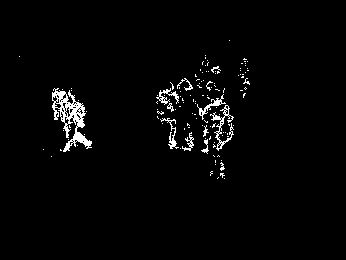person: (50, 85, 92, 155), (204, 88, 233, 182), (177, 75, 202, 153), (155, 83, 180, 153)
